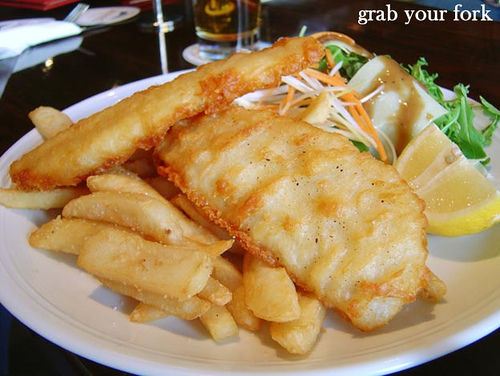fish: (154, 109, 449, 336), (10, 34, 326, 191)
